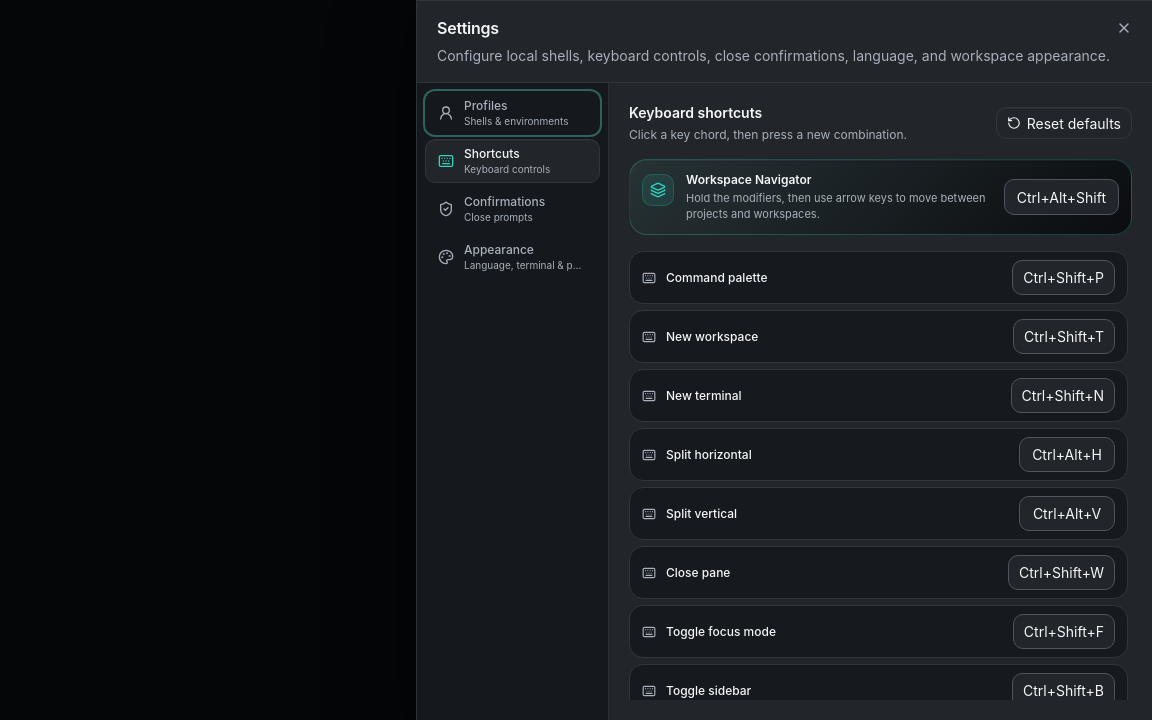
Test: SettingsSheet confirmations › offers accessible professional terminal appearance controls
Click the button "Appearance Language, terminal & panes" at (512,257), box [425, 235, 600, 279]
(page scrolled)
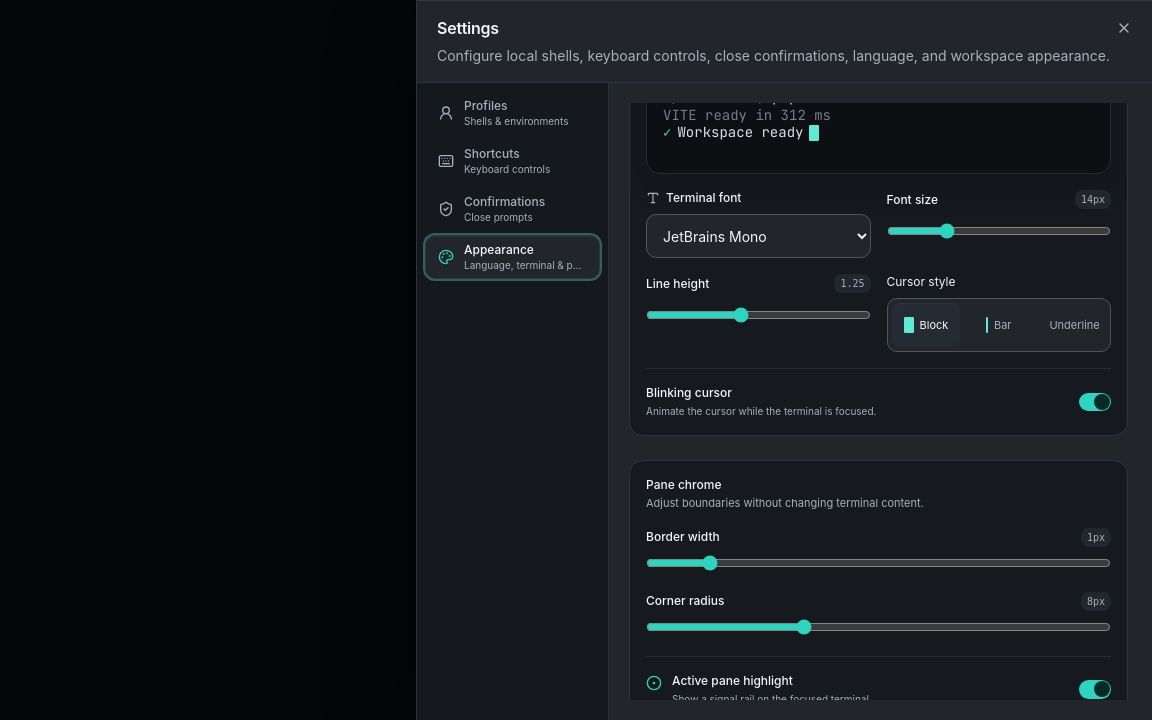
Expected: the dropdown labelled "Terminal font" shows "JetBrains Mono", [646, 214, 870, 258]
Expected: the slider labelled "Font size" holds "14", [886, 217, 1111, 245]
Expected: the slider labelled "Line height" holds "1.25", [646, 301, 870, 329]
